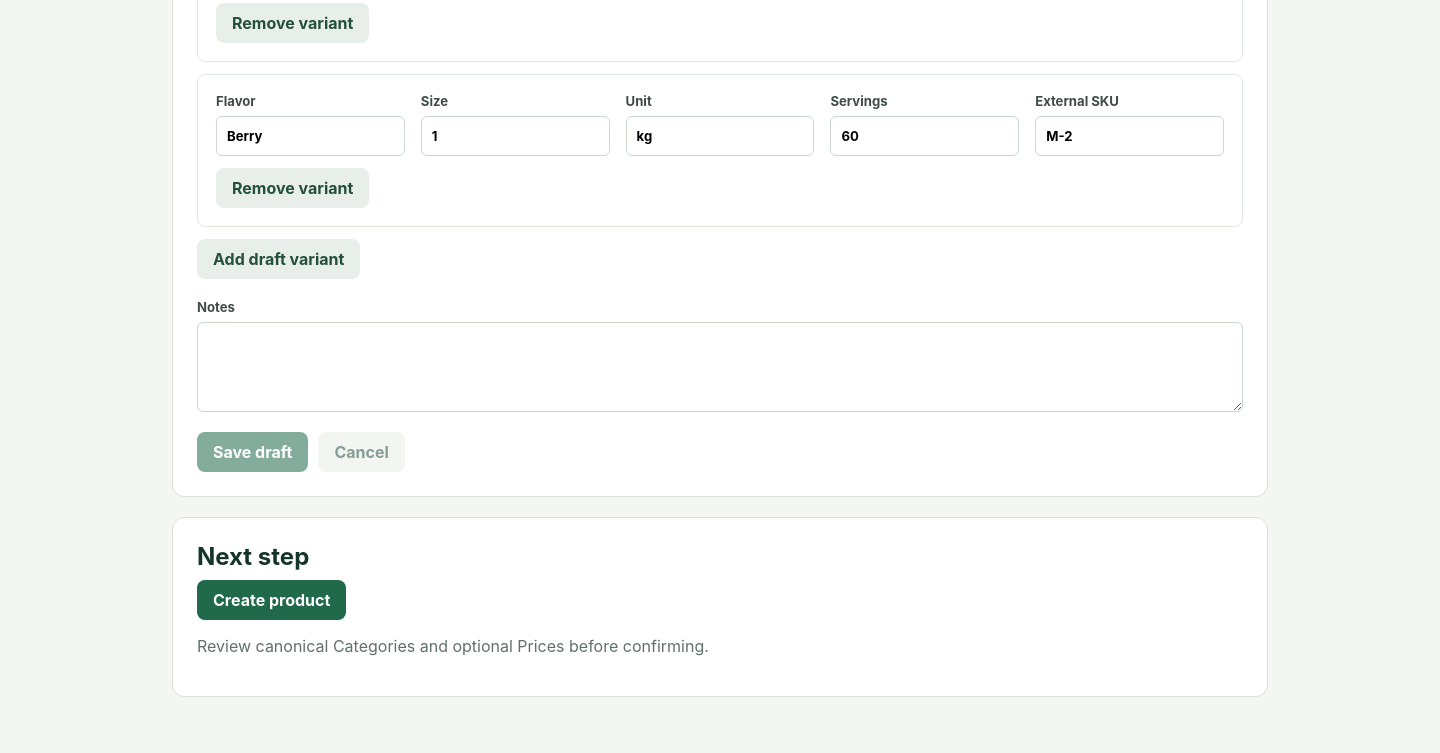
Scenario: Product Intake workspace › shows identity conflict and preserves the unpromoted intake
(page scrolled)
Click the button "Create product" at (272, 600), box [197,580,346,620]
(page scrolled)
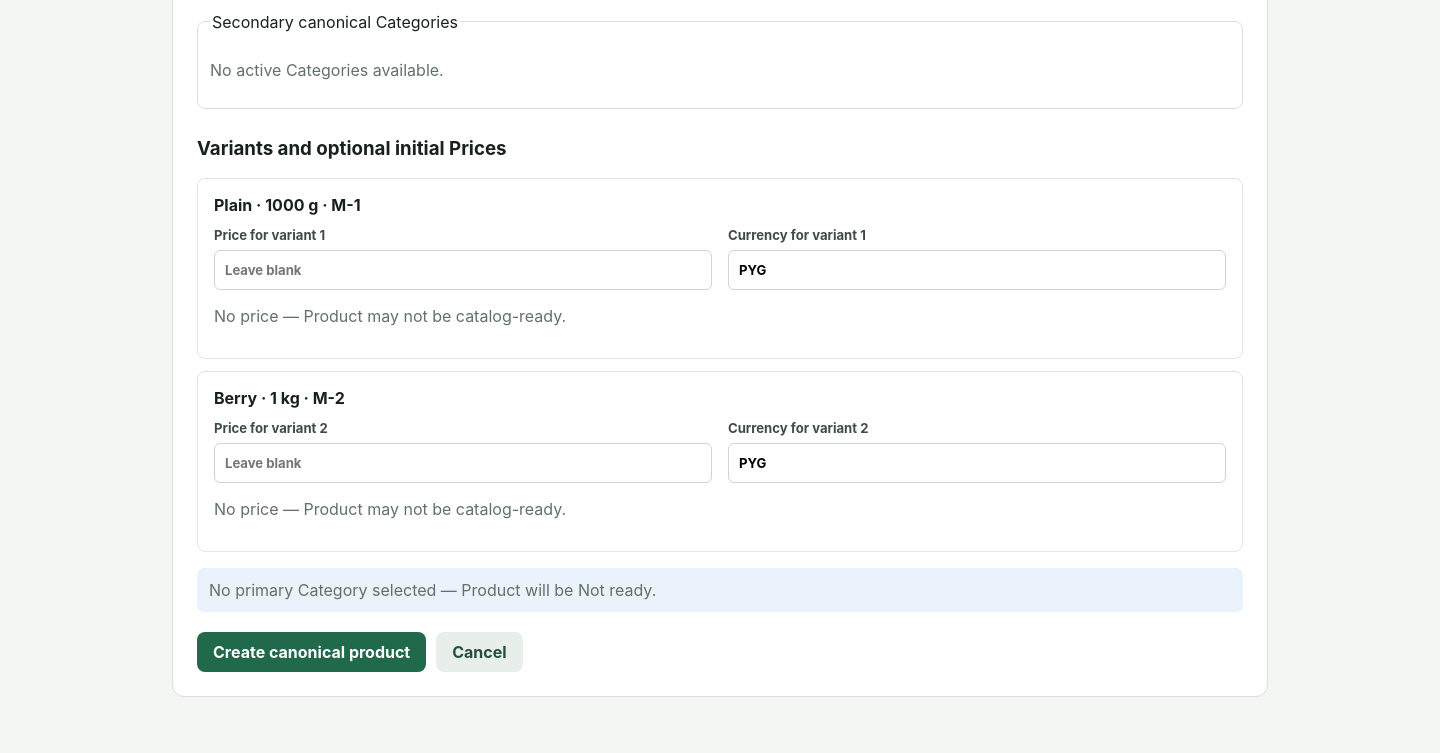
Click the button "Create canonical product" at (312, 652), box [197,632,426,672]
(page scrolled)
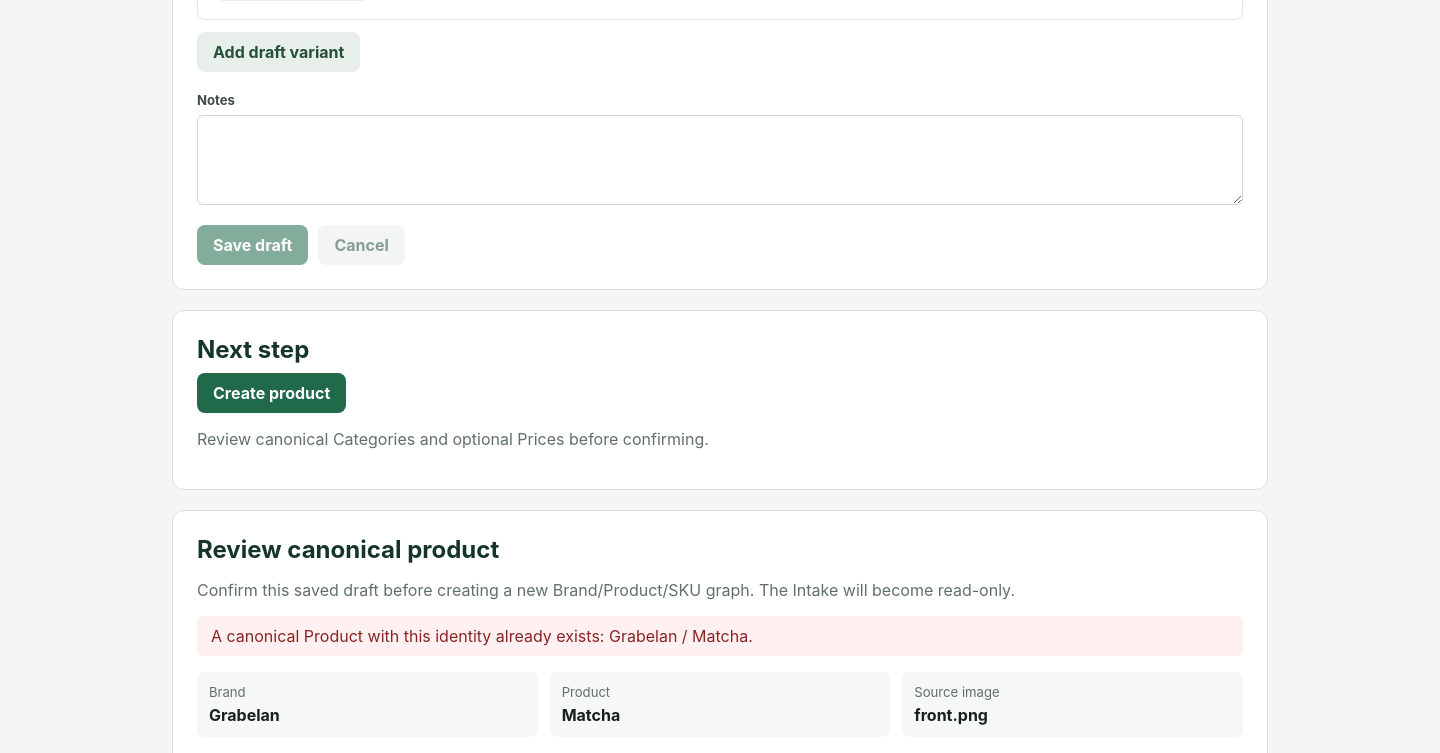
Check: the button "Create product" is enabled, box [197,373,346,413]
Check: the text "A canonical Product with this identity already exists: Grabelan / Matcha." is shown, box [197,616,1243,656]
